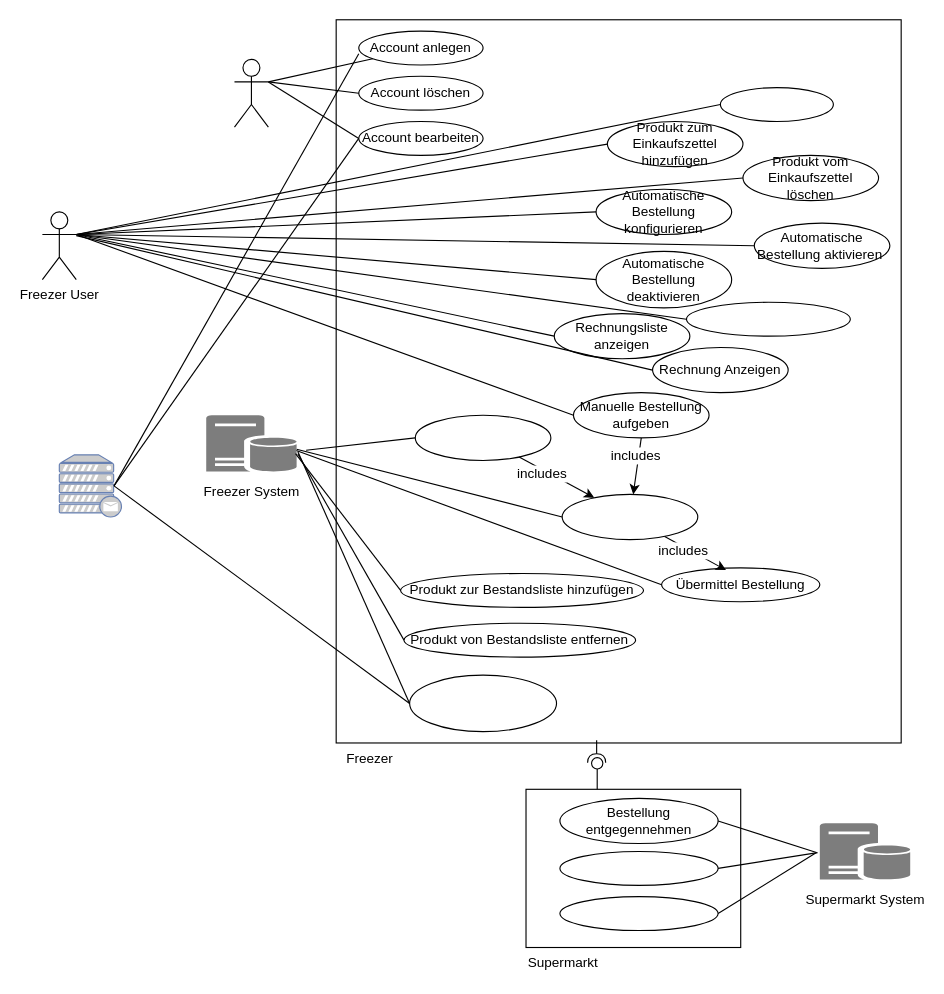
Some shapes in this 944 by 994 pixel diagram are drawn without their labels. The shapes that lost their labels are listed below. From the top down, each one's centre as x and y in pixels, then its label:
At pixel 250 92: "Freezer Admin".
At pixel 776 103: "Einkaufszettel anzeigen".
At pixel 767 318: "Bestandsliste anzeigen".
At pixel 482 437: "Automatisch Bestellung aufgeben".
At pixel 90 485: "Mailserver".
At pixel 629 516: "Erstelle Warenkorb".
At pixel 482 703: "Warnen bei ablaufendem Produktdatum".
At pixel 638 867: "Rechnung erstellen".
At pixel 638 913: "Rechnung übermitteln".
